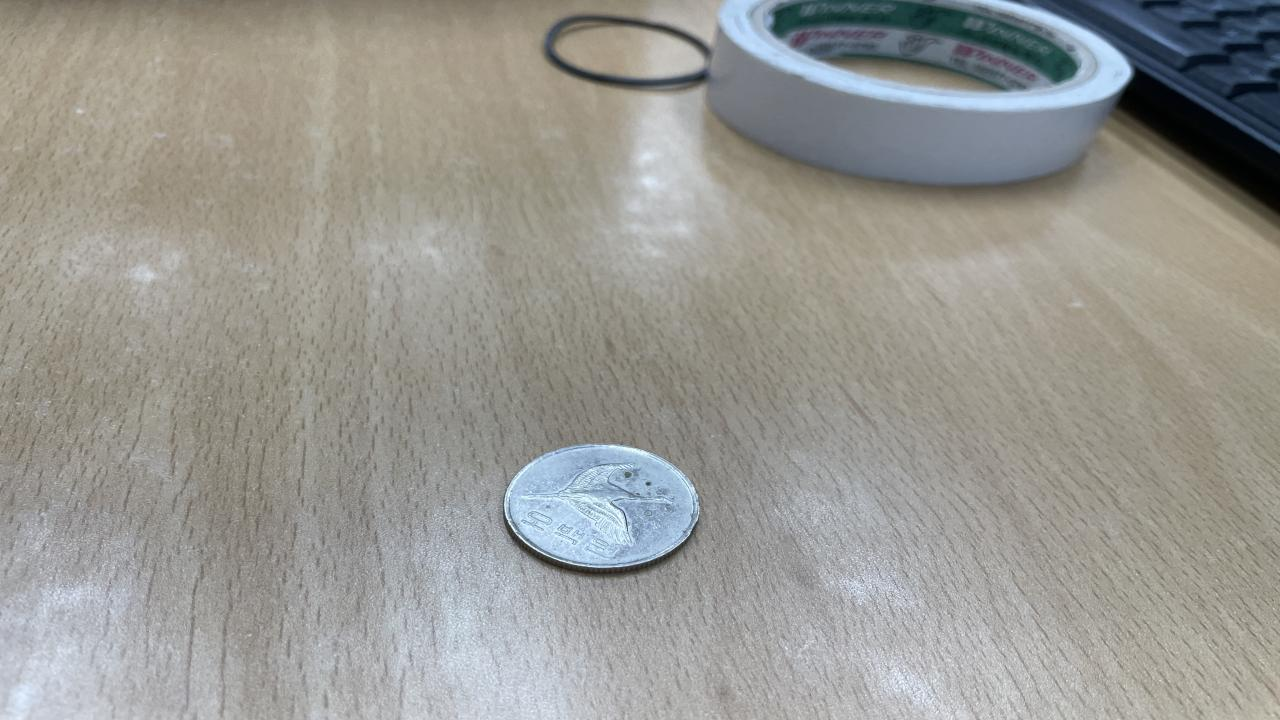coin: (499, 441, 706, 572)
